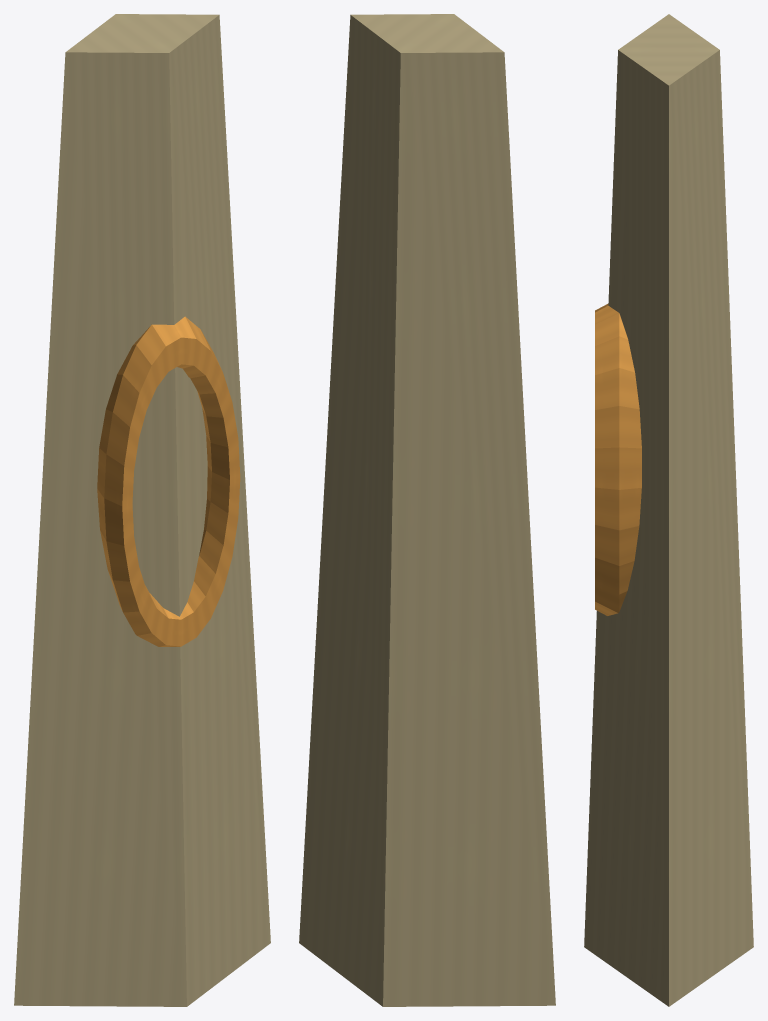
Rendered from atlas100-s015-a05.glb.
3 renders of one model, left to right at view 1: azimuth 30°, elevation 25°; view 2: azimuth 150°, elevation 25°; view 3: azimuth 270°, elevation 25°, orthographic. The views are drawn at different scales.
Parts seen in each view (by area): view 1: atlas100-s015-a05:part-000, atlas100-s015-a05:part-001; view 2: atlas100-s015-a05:part-000; view 3: atlas100-s015-a05:part-000, atlas100-s015-a05:part-001.
Part boxes in pixels (bbox=[...]): atlas100-s015-a05:part-000: bbox=[14, 14, 270, 1006]; atlas100-s015-a05:part-001: bbox=[97, 316, 240, 646]; atlas100-s015-a05:part-000: bbox=[299, 14, 555, 1006]; atlas100-s015-a05:part-000: bbox=[584, 14, 753, 1006]; atlas100-s015-a05:part-001: bbox=[595, 304, 641, 615].
Bounding box in the file's own units: 0.2184 × 0.7644 × 0.131.
2 materials, 2 textured.
